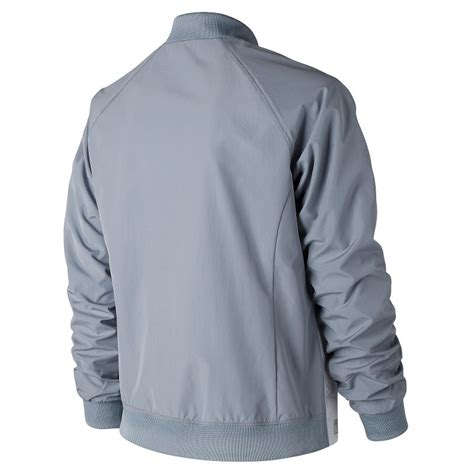nylon: (63, 13, 409, 462)
